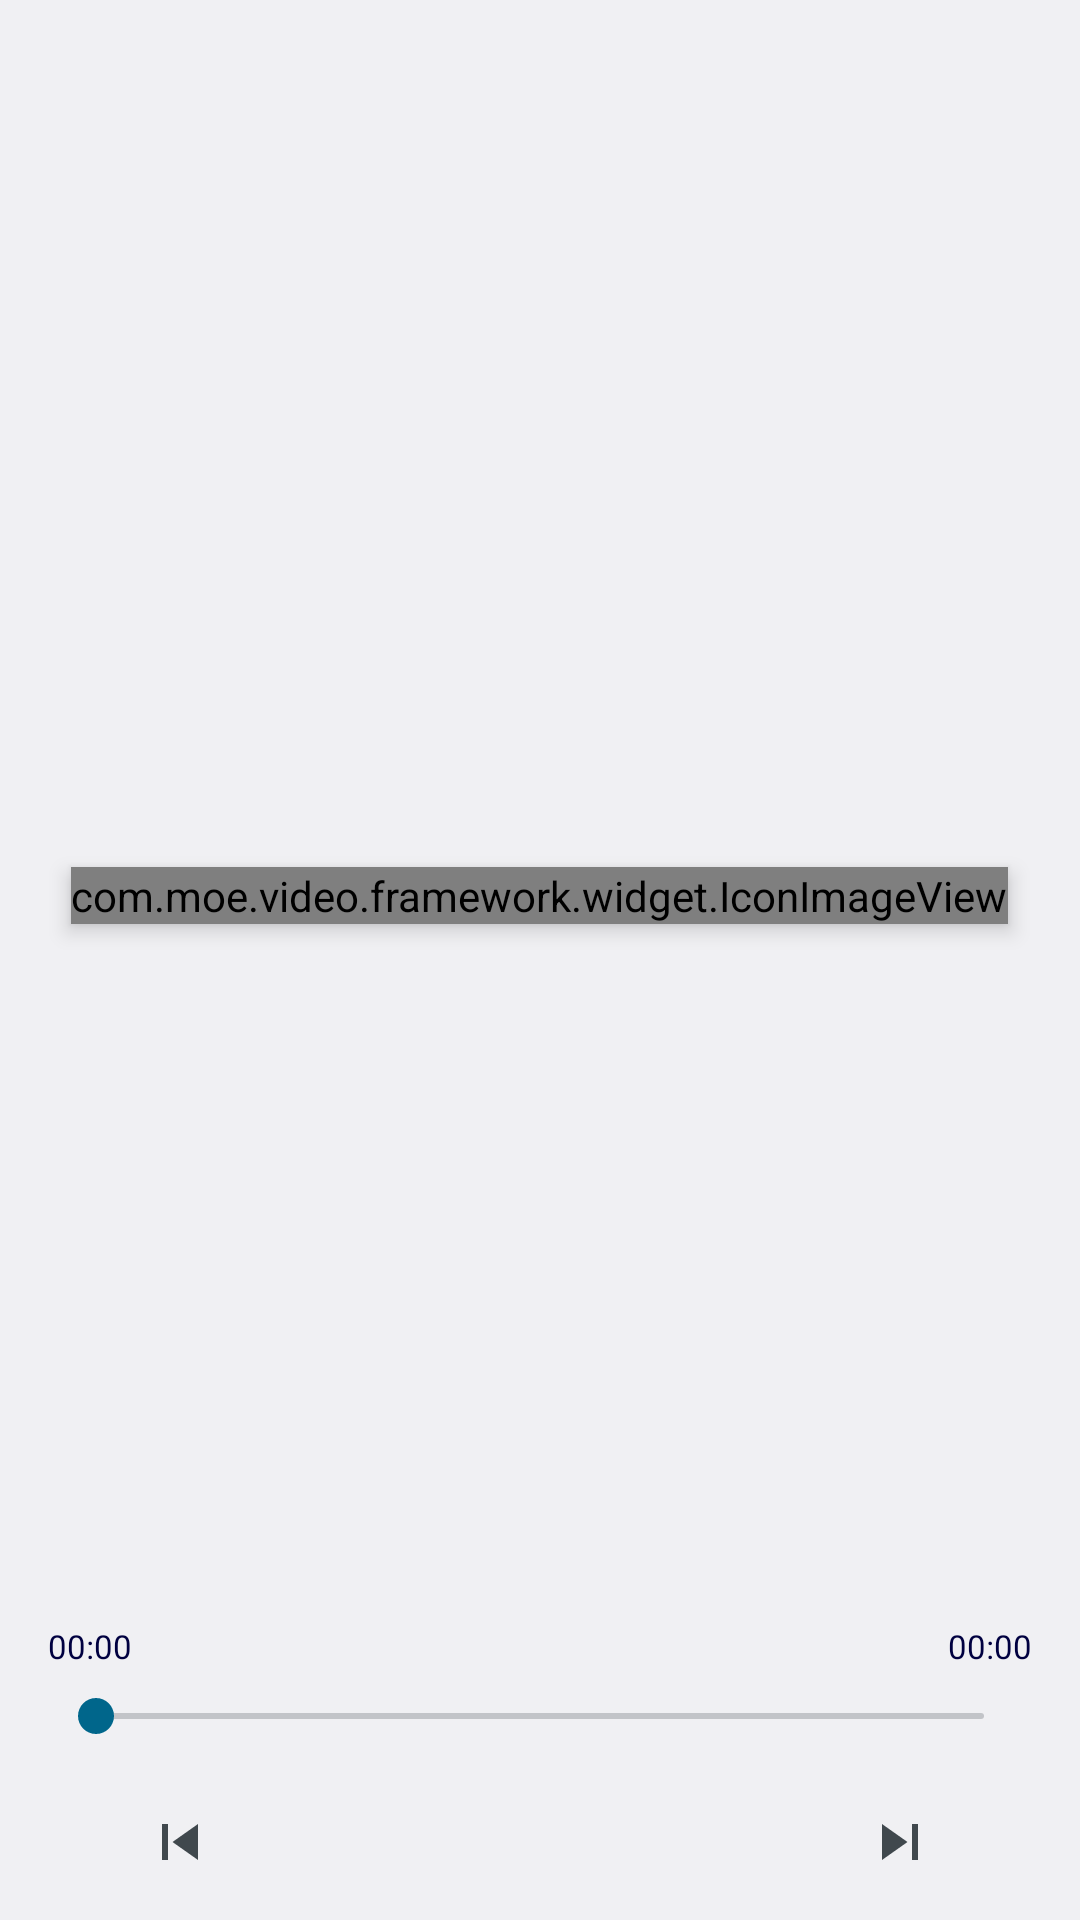

Where to tap for icons on this 1080px×1920px app screen, as [x,y]:
skip next: [900,1842]
skip pre: [180,1842]
